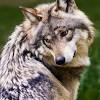Lobo: (9, 1, 89, 84)
